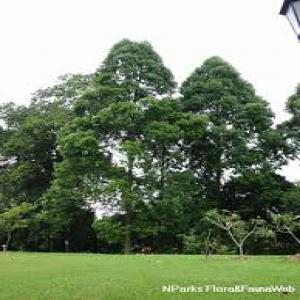Tree: (58, 37, 194, 254), (176, 49, 274, 256)
